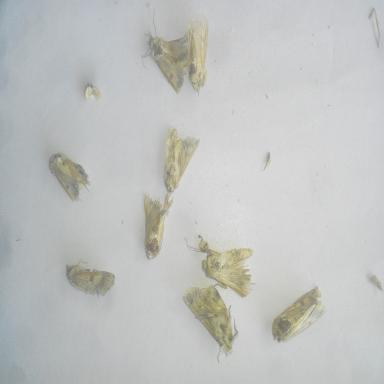abw: (180, 283, 241, 368), (139, 7, 194, 98), (199, 240, 259, 304), (268, 281, 326, 346), (161, 123, 203, 199), (46, 149, 92, 207), (141, 185, 175, 263), (182, 14, 213, 99), (63, 255, 118, 301)
